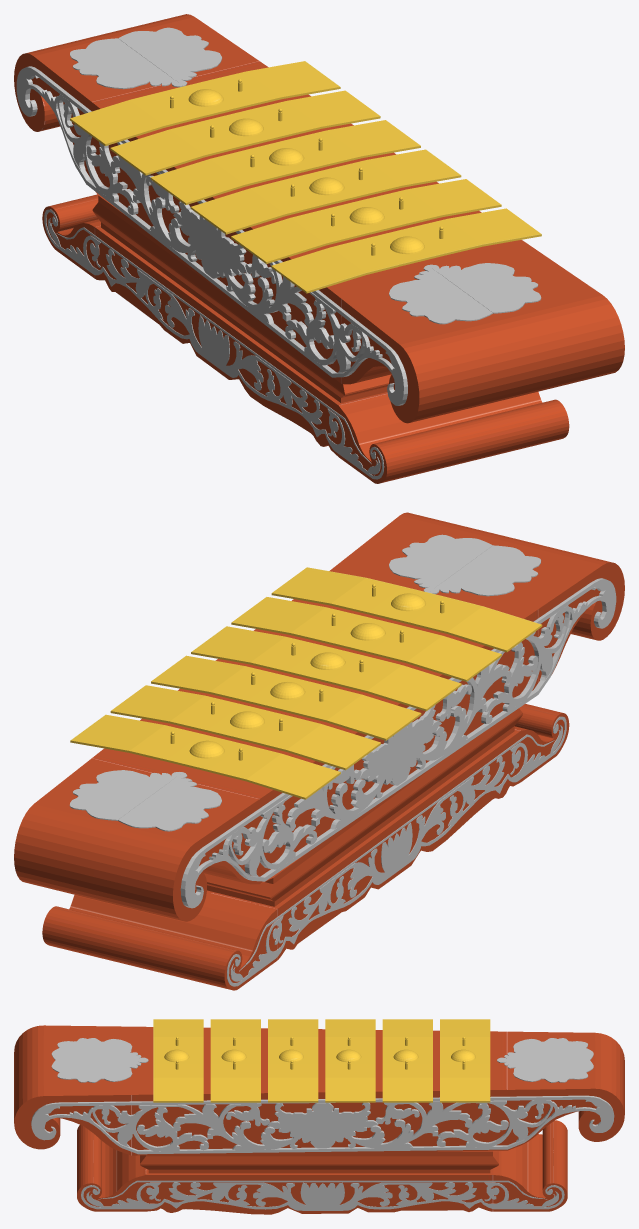
Rendered from saron.fbx.
3 renders of one model, top to bottom at view 1: azimuth 30°, elevation 25°; view 2: azimuth 150°, elevation 25°; view 3: azimuth 270°, elevation 25°, orthographic. The views are drawn at different scales.
Visible parts, largest first — view 1: Cube.001, Untitled, Plane, Plane.001; view 2: Cube.001, Untitled, Plane, Plane.001; view 3: Cube.001, Untitled, Plane.001, Plane.
Part boxes in pixels (x1,y1,x2,y2): Cube.001: [14, 14, 624, 483]; Untitled: [70, 61, 541, 293]; Plane: [44, 27, 541, 479]; Plane.001: [16, 66, 407, 405]; Cube.001: [14, 512, 624, 990]; Untitled: [70, 567, 542, 799]; Plane: [69, 534, 566, 986]; Plane.001: [180, 578, 616, 908]; Cube.001: [14, 1025, 624, 1214]; Untitled: [153, 1019, 490, 1102]; Plane.001: [31, 1095, 614, 1154]; Plane: [51, 1038, 593, 1210].
Size of the model in its own units: 304 by 232 by 959.
